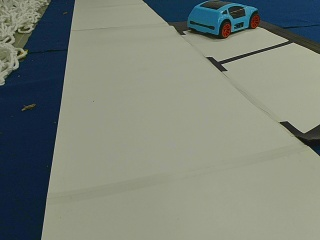car: (187, 2, 259, 38)
